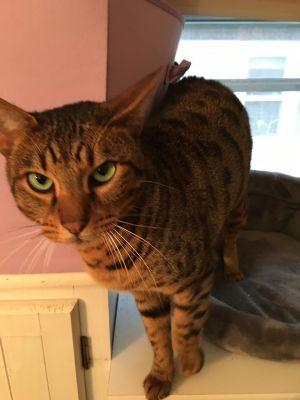bengal: (1, 48, 175, 257)
